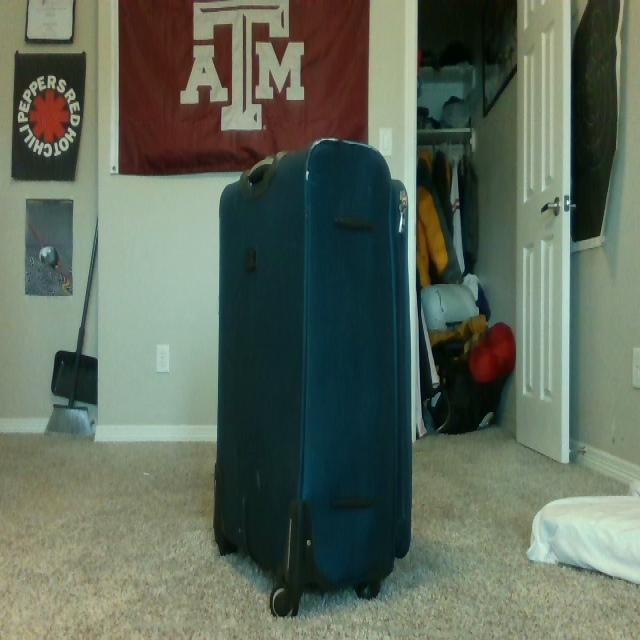suitcase: (212, 136, 415, 617)
